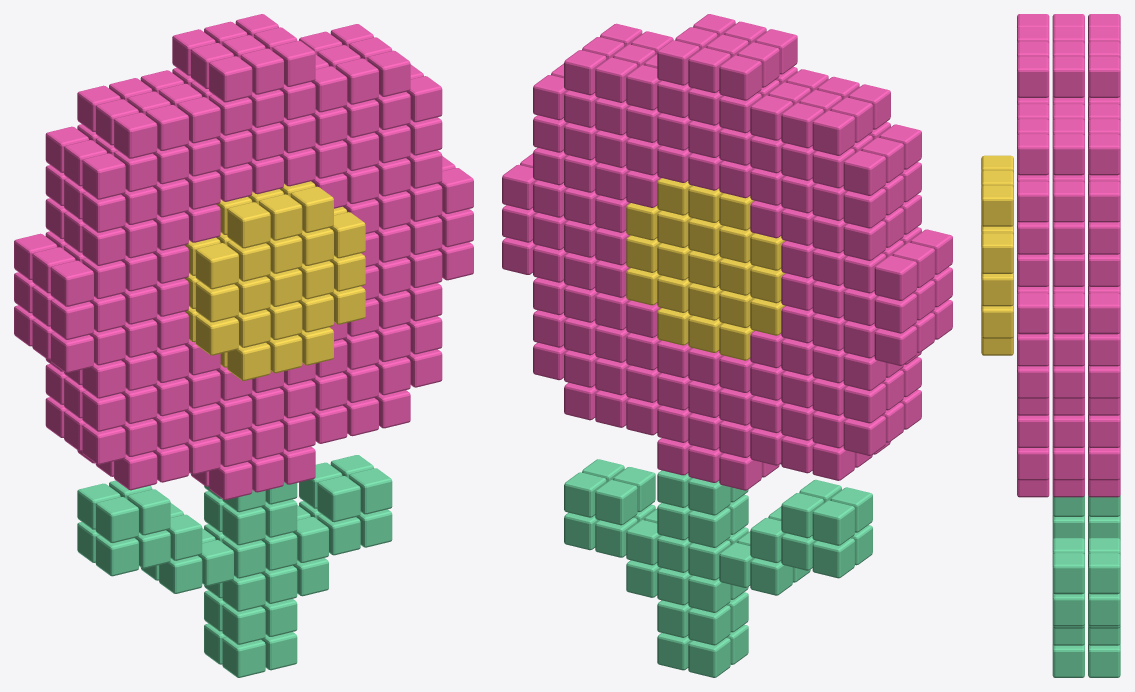
The model's file is Flower.fbx.
3 views of the same model, side by side, from view 1: azimuth 30°, elevation 25°; view 2: azimuth 150°, elevation 25°; view 3: azimuth 270°, elevation 25° (orthographic). The views are drawn at different scales.
Visible parts, largest first — view 1: Cube_036, Cube_418, Cube_422, Cube_045, Cube_022, Cube_068, Cube_028, Cube_008, Cube_035, Cube_029, Cube_417, Cube_027 (+145 smaller); view 2: Cube_179, Cube_233, Cube_157, Cube_023, Cube_139, Cube_009, Cube_439, Cube_137, Cube_155, Cube_153, Cube_007, Cube_135 (+152 smaller); view 3: Cube_116, Cube_342, Cube_325, Cube_343, Cube_021, Cube_349, Cube_430, Cube_020, Cube_119, Cube_132, Cube_324, Cube_348 (+70 smaller).
Part boxes in pixels (left/top/right/bottom): Cube_036: left=82, top=153, right=125, bottom=199; Cube_418: left=195, top=243, right=238, bottom=289; Cube_422: left=227, top=202, right=270, bottom=248; Cube_045: left=114, top=112, right=157, bottom=158; Cube_022: left=317, top=476, right=360, bottom=522; Cube_068: left=209, top=56, right=252, bottom=102; Cube_028: left=50, top=260, right=93, bottom=306; Cube_008: left=95, top=497, right=138, bottom=543; Cube_035: left=82, top=192, right=125, bottom=232; Cube_029: left=82, top=424, right=125, bottom=464; Cube_417: left=195, top=281, right=238, bottom=322; Cube_027: left=50, top=299, right=93, bottom=339; Cube_179: left=812, top=110, right=854, bottom=155; Cube_233: left=719, top=55, right=761, bottom=100; Cube_157: left=843, top=150, right=885, bottom=195; Cube_023: left=595, top=480, right=637, bottom=525; Cube_139: left=874, top=255, right=916, bottom=300; Cube_009: left=812, top=500, right=854, bottom=545; Cube_439: left=688, top=605, right=730, bottom=645; Cube_137: left=874, top=293, right=916, bottom=333; Cube_155: left=843, top=188, right=885, bottom=228; Cube_153: left=843, top=221, right=885, bottom=260; Cube_007: left=812, top=538, right=854, bottom=578; Cube_135: left=874, top=326, right=916, bottom=365; Cube_116: left=1017, top=181, right=1049, bottom=222; Cube_342: left=1052, top=181, right=1084, bottom=222; Cube_325: left=1088, top=134, right=1120, bottom=175; Cube_343: left=1088, top=181, right=1120, bottom=222; Cube_021: left=1088, top=553, right=1120, bottom=594; Cube_349: left=1088, top=293, right=1120, bottom=334; Cube_430: left=981, top=185, right=1013, bottom=226; Cube_020: left=1052, top=553, right=1084, bottom=594; Cube_119: left=1017, top=293, right=1049, bottom=334; Cube_132: left=1017, top=134, right=1049, bottom=175; Cube_324: left=1052, top=134, right=1084, bottom=175; Cube_348: left=1052, top=293, right=1084, bottom=334.
Bounding box in the file's own units: 316 × 463 × 95.8.
